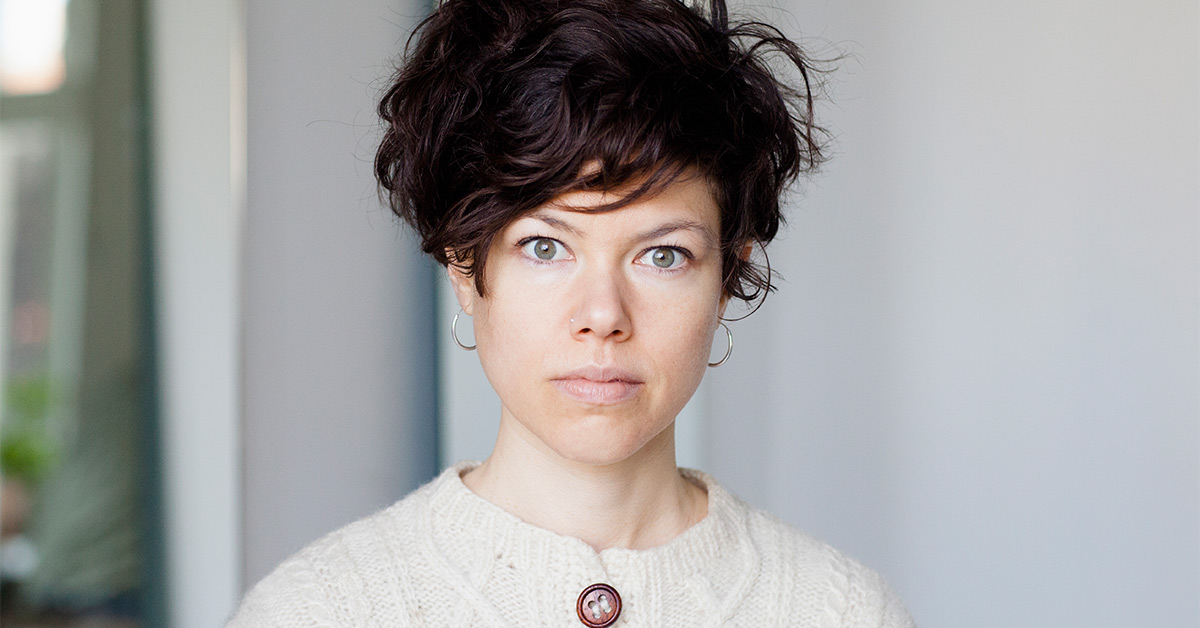bare: (465, 279, 716, 460)
